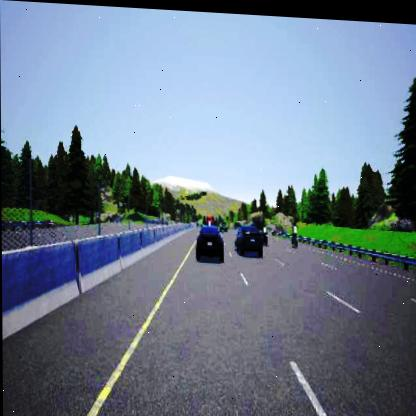bike: (289, 217, 299, 246)
vehicle: (195, 213, 226, 258), (234, 221, 263, 253)
